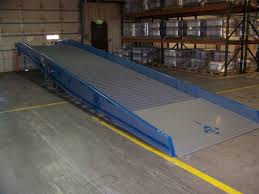Yard Ramp: (15, 38, 259, 158)
